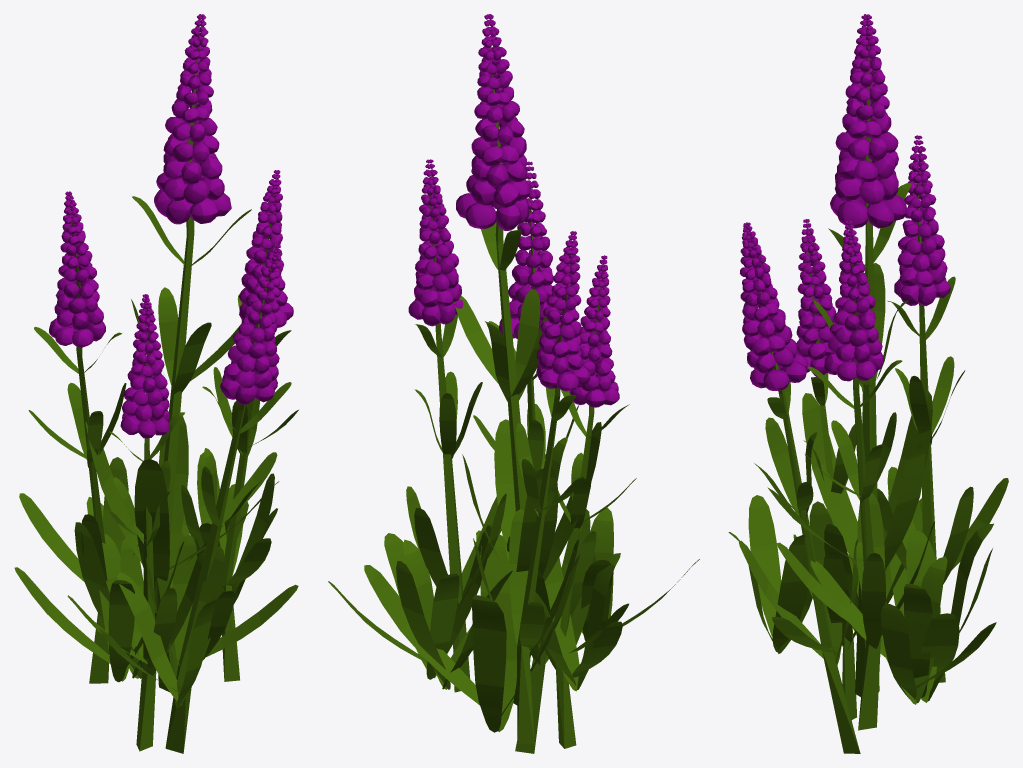
Rendered from OstxFlower.fbx.
The picture shows the model from 3 angles, left to right: view 1: azimuth 30°, elevation 25°; view 2: azimuth 150°, elevation 25°; view 3: azimuth 270°, elevation 25°; orthographic projection. The views are drawn at different scales.
Visible parts, largest first — view 1: Cylinder, Cylinder.004, Plane.008, Cylinder.003, Cylinder.001, Plane.055, Cylinder.002, Plane.060, Plane.069, Plane.009, Plane.010, Plane.056 (+29 smaller); view 2: Plane.068, Cylinder.002, Cylinder, Plane.067, Cylinder.001, Plane.070, Cylinder.003, Plane.010, Plane.053, Plane.064, Plane.011, Plane.027 (+24 smaller); view 3: Cylinder.004, Cylinder.001, Plane.008, Plane.058, Cylinder, Plane.009, Plane.063, Plane.052, Plane.016, Cylinder.002, Plane.057, Plane.070 (+31 smaller).
Part boxes in pixels (box(x1,y1,x2,y2)): Cylinder: box(154, 39, 198, 692); Cylinder.004: box(165, 268, 270, 753); Plane.008: box(134, 459, 169, 590); Cylinder.003: box(136, 316, 156, 751); Cylinder.001: box(222, 195, 274, 681); Plane.055: box(117, 572, 182, 705); Cylinder.002: box(71, 215, 109, 683); Plane.060: box(108, 580, 134, 682); Plane.069: box(74, 522, 141, 678); Plane.009: box(159, 412, 188, 580); Plane.010: box(85, 421, 155, 583); Plane.056: box(176, 597, 218, 707); Plane.068: box(472, 595, 506, 732); Cylinder.002: box(517, 255, 572, 744); Cylinder: box(490, 47, 530, 705); Plane.067: box(480, 534, 516, 731); Cylinder.001: box(428, 179, 470, 692); Plane.070: box(364, 565, 479, 705); Cylinder.003: box(555, 279, 601, 748); Plane.010: box(516, 467, 558, 576); Plane.053: box(396, 561, 450, 689); Plane.064: box(426, 573, 459, 679); Plane.011: box(494, 419, 515, 561); Plane.027: box(509, 509, 530, 652); Cylinder.004: box(753, 248, 860, 753); Cylinder.001: box(851, 246, 880, 730); Plane.008: box(802, 393, 857, 558); Plane.058: box(748, 495, 781, 637); Cylinder: box(855, 46, 879, 696); Plane.009: box(884, 445, 925, 569); Plane.063: box(880, 604, 916, 699); Plane.052: box(904, 583, 932, 697); Plane.016: box(861, 553, 886, 648); Cylinder.002: box(917, 162, 945, 682); Plane.057: box(772, 535, 808, 652); Plane.070: box(921, 613, 959, 680).
Bounding box in the file's own units: 21.54 × 57.93 × 19.58.
